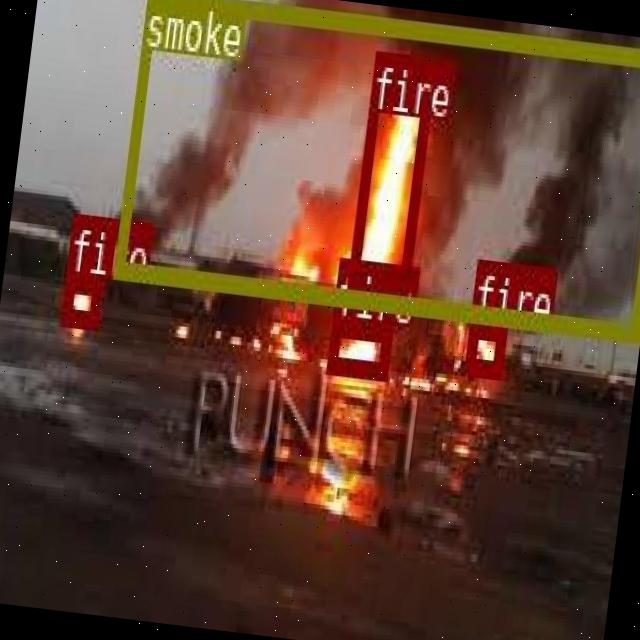fire: (344, 49, 436, 304), (326, 316, 390, 378), (462, 318, 506, 373), (59, 270, 102, 324)
smoke: (112, 0, 640, 335)
